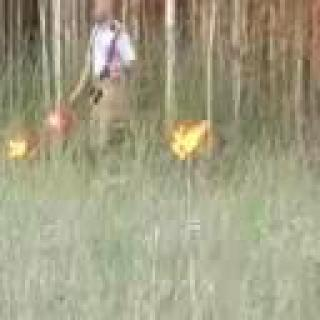fire: (167, 124, 213, 161), (36, 109, 68, 137), (4, 137, 29, 164)
